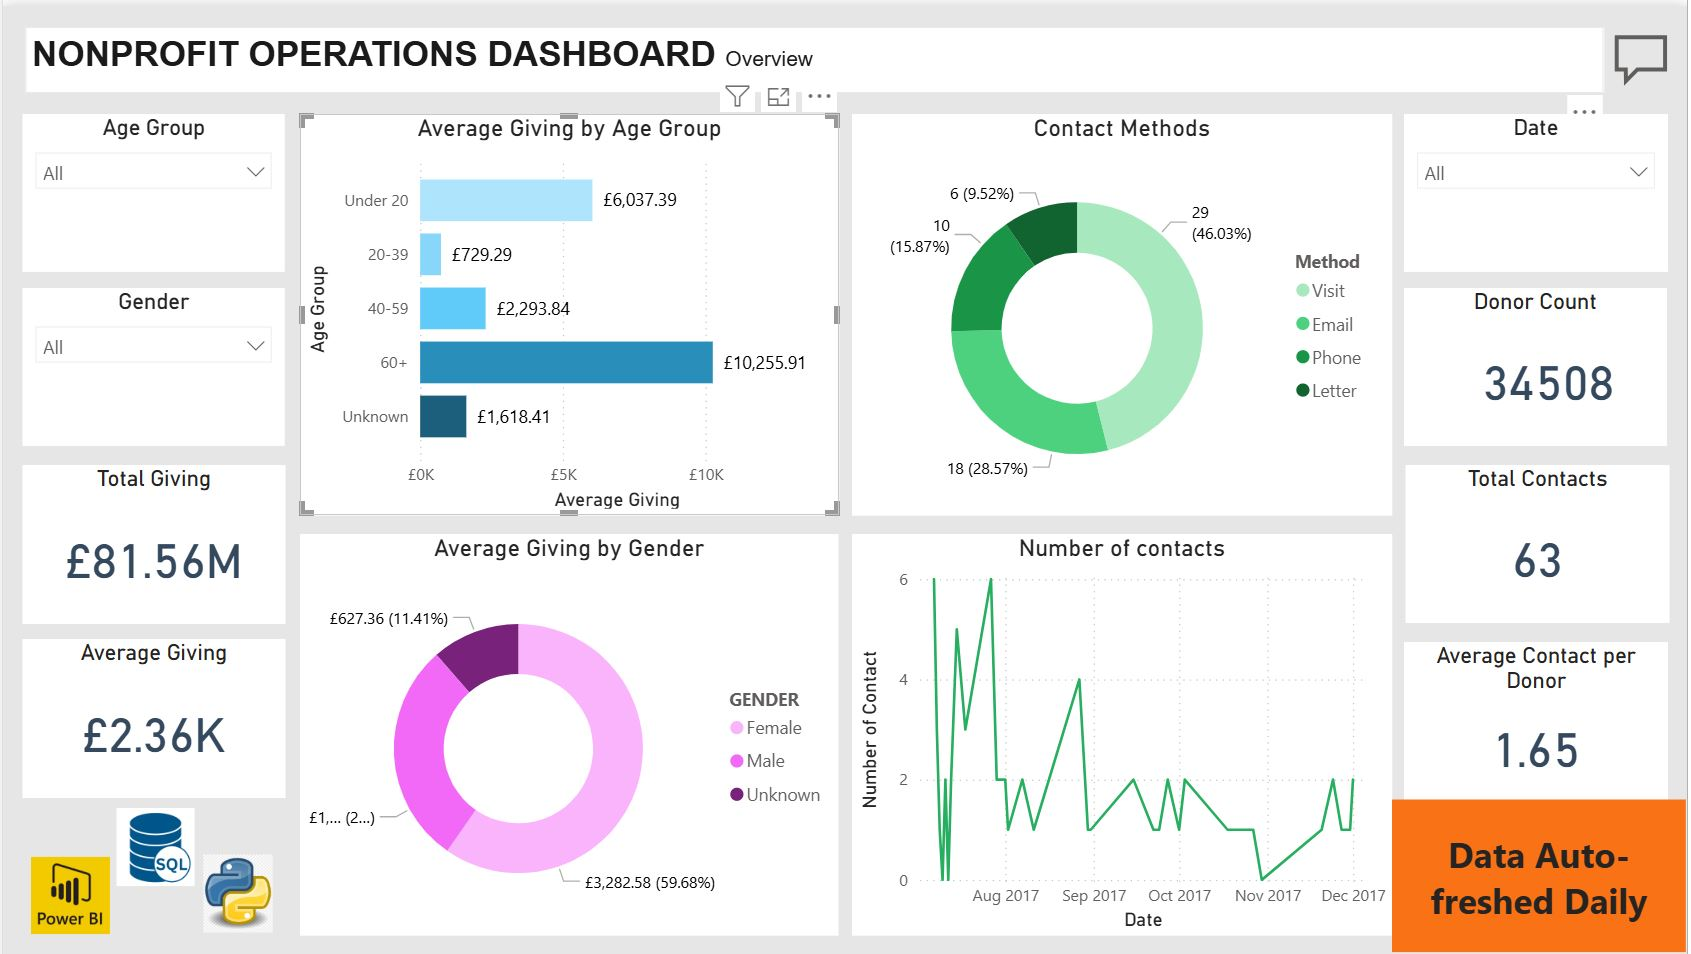

This screenshot's page, from the dashboard's own definition file:
{"tool":"powerbi","page":{"name":"Overview","canvas":[1280,720],"ordinal":0},"visuals":[{"type":"textbox","box":[17,16,1200,50],"z":1},{"type":"card","title":"Total Giving","fields":{"Values":["Sum(Donors.TotalGiving)"]},"box":[17,82,220.3,120.3],"z":2},{"type":"card","title":"Average Giving","fields":{"Values":["Avg(Donors.TotalGiving)"]},"box":[338.5,82,220.3,120.3],"z":3},{"type":"card","title":"Total Contacts","fields":{"Values":["Sum(Contacts.Contact)"]},"box":[698.2,82,220.3,120.3],"z":4},{"type":"card","title":"Average Contact per Donor","fields":{"Values":["Contacts.Avg_contact"]},"box":[1038.8,82,220.3,120.3],"z":5},{"type":"clusteredColumnChart","title":"Number of contacts by Month","fields":{"Category":["Contacts.Date.Variation.Date Hierarchy.Month","Contacts.Date.Variation.Date Hierarchy.Day"],"Y":["Sum(Contacts.Contact)"]},"box":[17,224.6,610,475.7],"z":6},{"type":"clusteredBarChart","title":"Average Giving by Age Group","fields":{"Category":["Donors.Age_group"],"Y":["Avg(Donors.TotalGiving)"]},"box":[649.2,224.6,609.9,475.7],"z":7},{"type":"actionButton","box":[1220.4,16,59.6,50],"z":8}]}

Visuals, with their boxes in screenshot pixels (x1, y1, x2, y2), scaled from the page's 1280x720 canvas onto the 1691x954 screenshot:
textbox: [22,21,1608,87]
"Total Giving" card: [22,109,313,268]
"Average Giving" card: [447,109,738,268]
"Total Contacts" card: [922,109,1213,268]
"Average Contact per Donor" card: [1372,109,1663,268]
"Number of contacts by Month" clusteredColumnChart: [22,298,828,928]
"Average Giving by Age Group" clusteredBarChart: [858,298,1663,928]
actionButton: [1612,21,1690,87]
